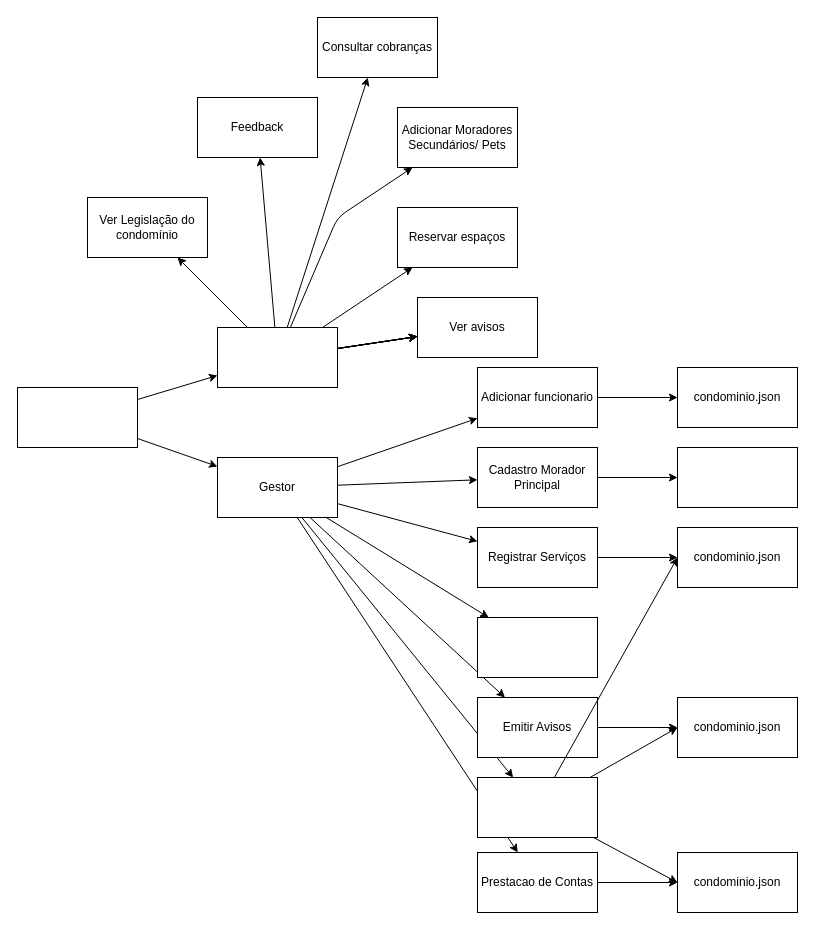
The diagram is 815 pixels wide and 930 high, and some of its shapes have lost their labels. Each missing label, with the box of its shape:
Emitir Cobranças: (476, 616, 598, 678)
Login: (16, 386, 138, 448)
Morador: (216, 326, 338, 388)
usuarios.json: (676, 446, 798, 508)
Ver Histórico: (476, 776, 598, 838)
